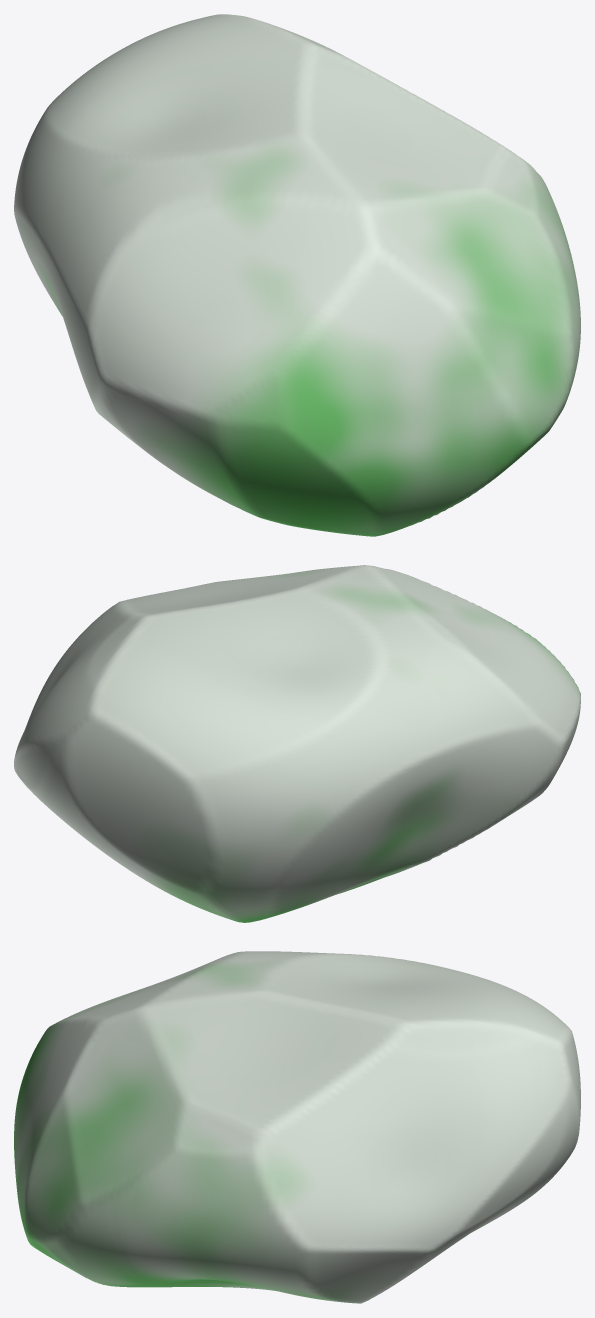
The model's file is Roca2.obj.
3 renders of one model, top to bottom at view 1: azimuth 30°, elevation 25°; view 2: azimuth 150°, elevation 25°; view 3: azimuth 270°, elevation 25°, orthographic. The views are drawn at different scales.
Visible parts, largest first — view 1: Roca2; view 2: Roca2; view 3: Roca2.
Part boxes in pixels (x1,y1,x2,y2): Roca2: (14,14,580,536); Roca2: (14,565,580,922); Roca2: (14,951,580,1303).
Bounding box in the file's own units: 3.02 × 1.89 × 3.32.
1 material, 1 textured.
